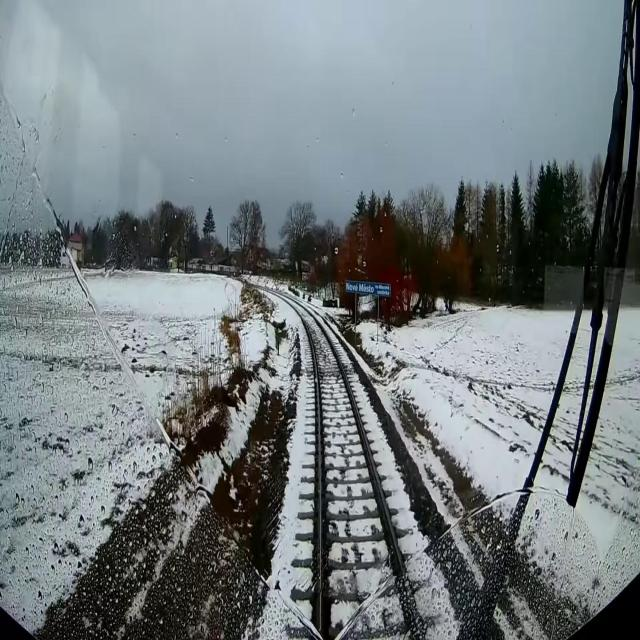rail-track: (284, 297, 417, 639)
